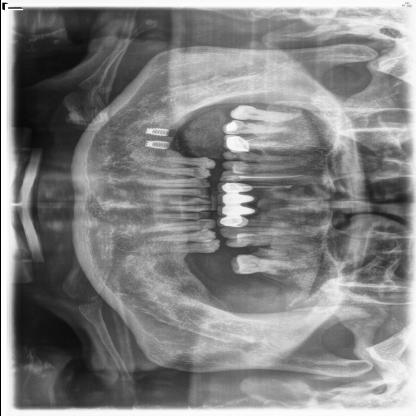Bicon: (140, 139, 173, 152), (141, 126, 172, 136)
